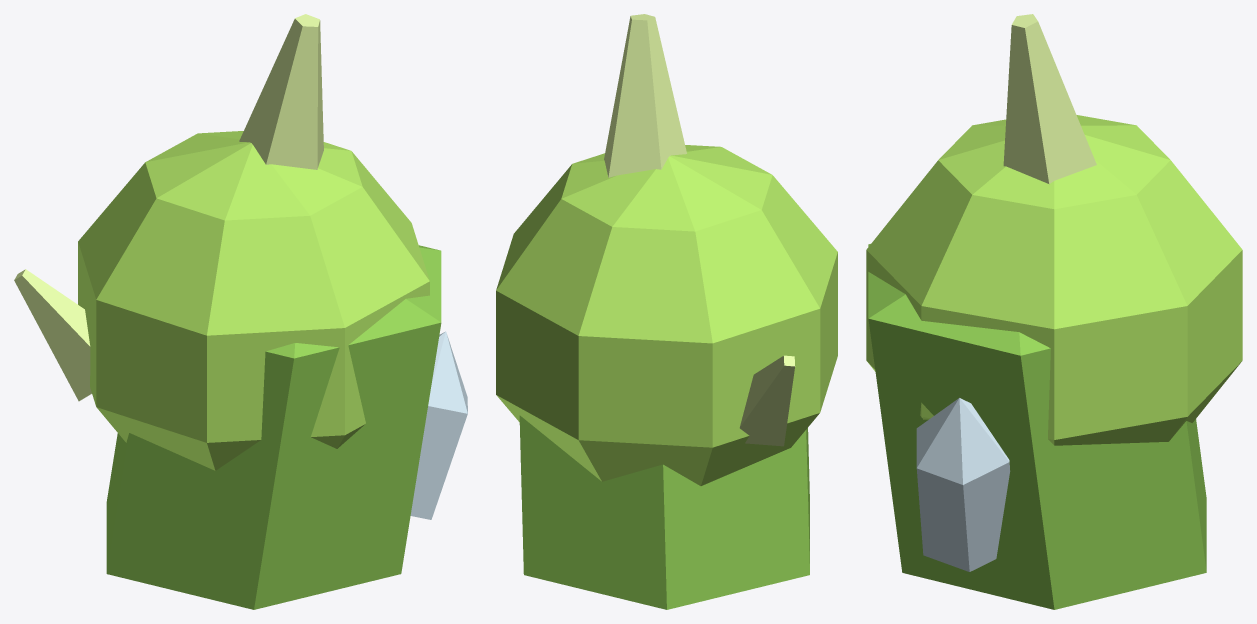
Rendered from verdant_compound_item_flat.glb.
3 renders of one model, left to right at view 1: azimuth 30°, elevation 25°; view 2: azimuth 150°, elevation 25°; view 3: azimuth 270°, elevation 25°, orthographic. The views are drawn at different scales.
Visible parts, largest first — view 1: OrganicBody, CrystalBase, Sprout, CrystAccent, SideTendril; view 2: OrganicBody, CrystalBase, Sprout, SideTendril; view 3: OrganicBody, CrystalBase, CrystAccent, Sprout.
Boxes of the visible parts, left/top/right/bottom form: OrganicBody: left=78, top=131, right=429, bottom=470; CrystalBase: left=106, top=245, right=441, bottom=609; Sprout: left=239, top=14, right=323, bottom=169; CrystAccent: left=410, top=331, right=467, bottom=519; SideTendril: left=14, top=269, right=91, bottom=401; OrganicBody: left=496, top=145, right=837, bottom=485; CrystalBase: left=519, top=415, right=809, bottom=609; Sprout: left=604, top=14, right=686, bottom=177; SideTendril: left=739, top=355, right=795, bottom=446; OrganicBody: left=866, top=115, right=1242, bottom=445; CrystalBase: left=868, top=244, right=1206, bottom=609; CrystAccent: left=916, top=398, right=1010, bottom=571; Sprout: left=1003, top=14, right=1096, bottom=183.
Bounding box in the file's own units: 0.0377 × 0.0524 × 0.0333.
